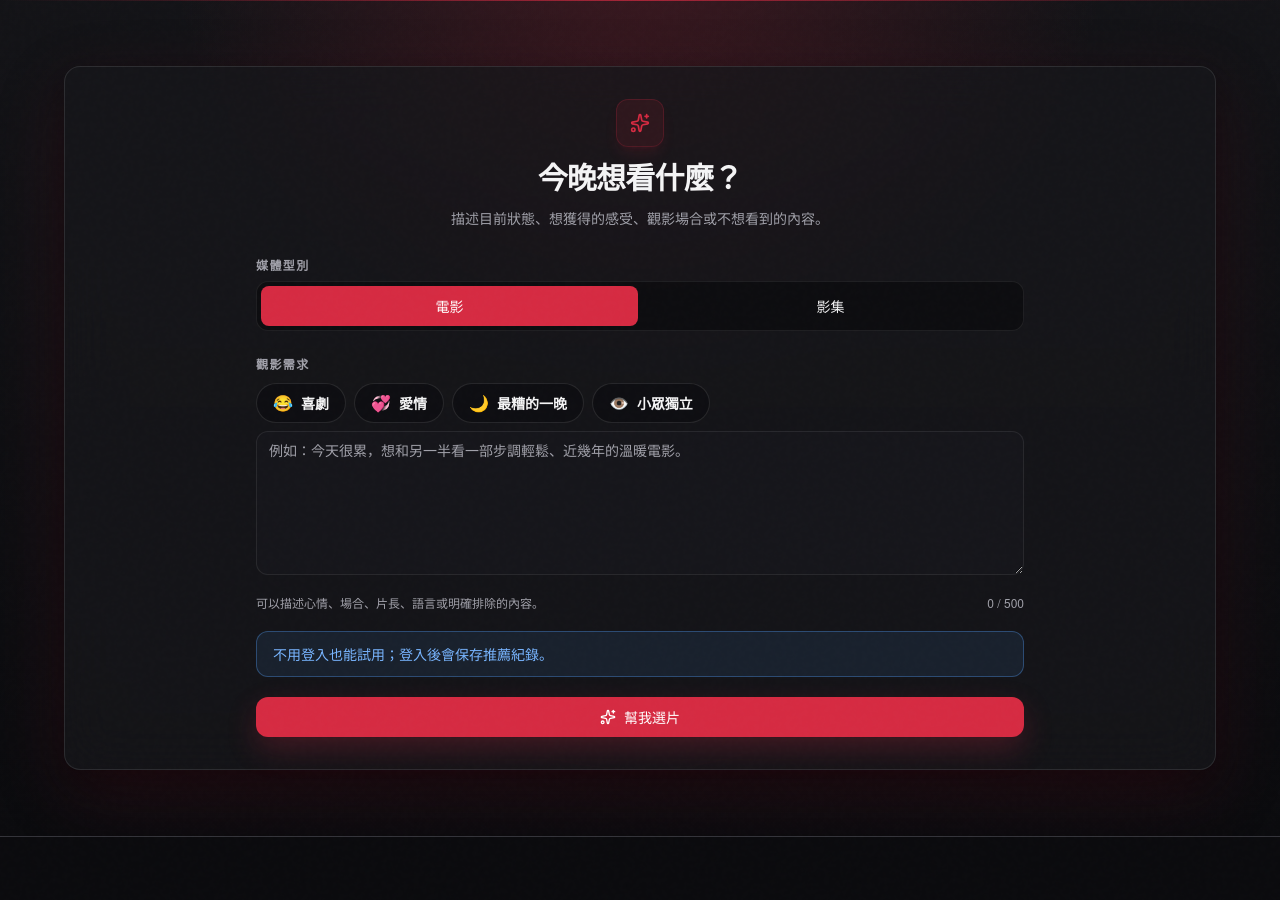
Test: AiMoviePicker › fills the request from the 愛情 template without submitting
Expected: the text "想看以愛情為主，從甜蜜浪漫、曖昧拉扯到複雜或成熟的關係都可以，角色互動自然、有火花。" is not shown
Click the button "💞 愛情".
click(399, 403)  # box [354,383,444,423]
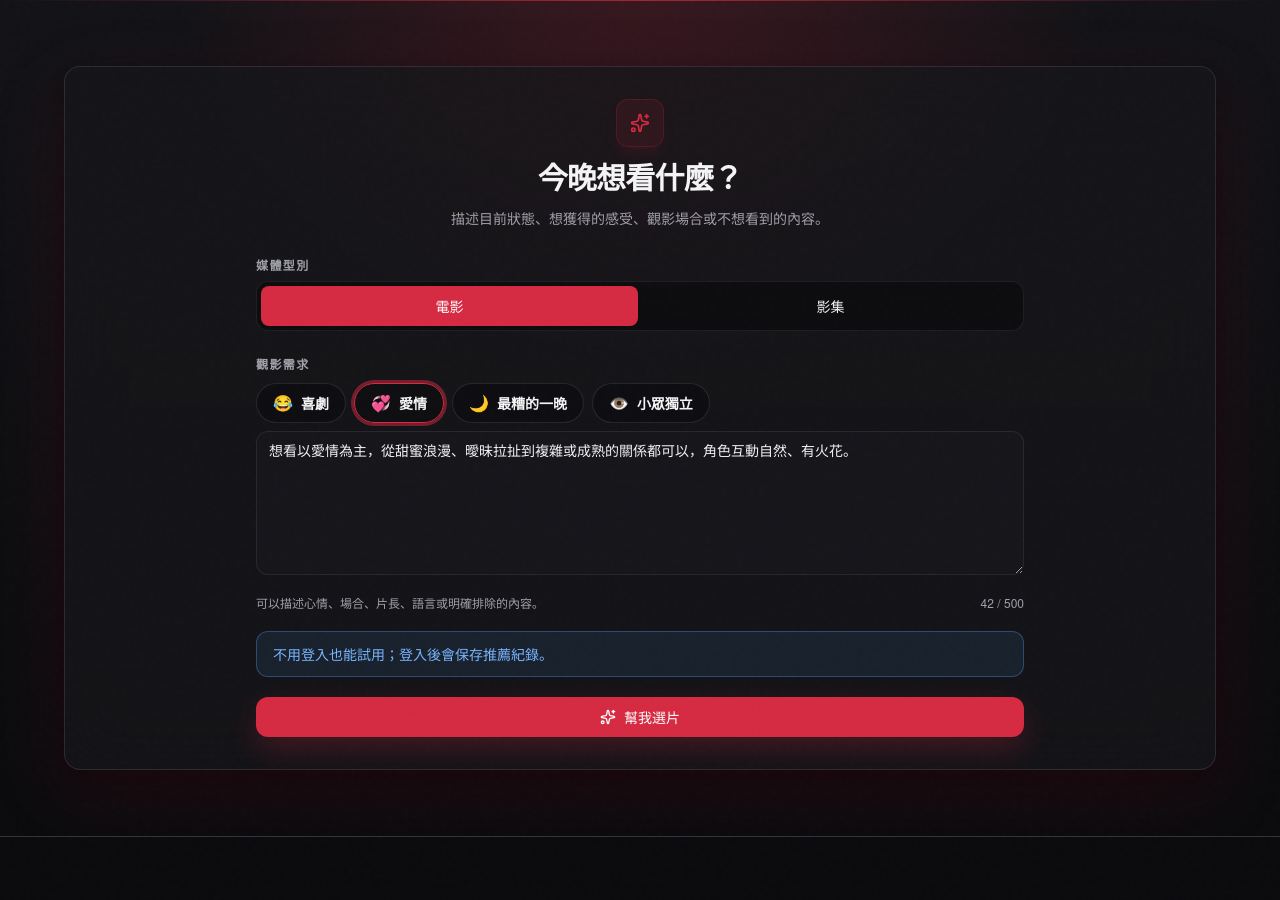
Expected: the text box labelled "觀影需求" holds "想看以愛情為主，從甜蜜浪漫、曖昧拉扯到複雜或成熟的關係都可以，角色互動自然、有火花。", [256,431,1024,575]
